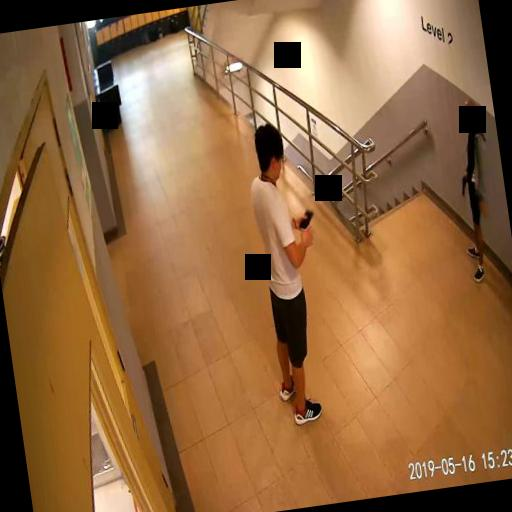Handgun: (458, 171, 468, 197)
